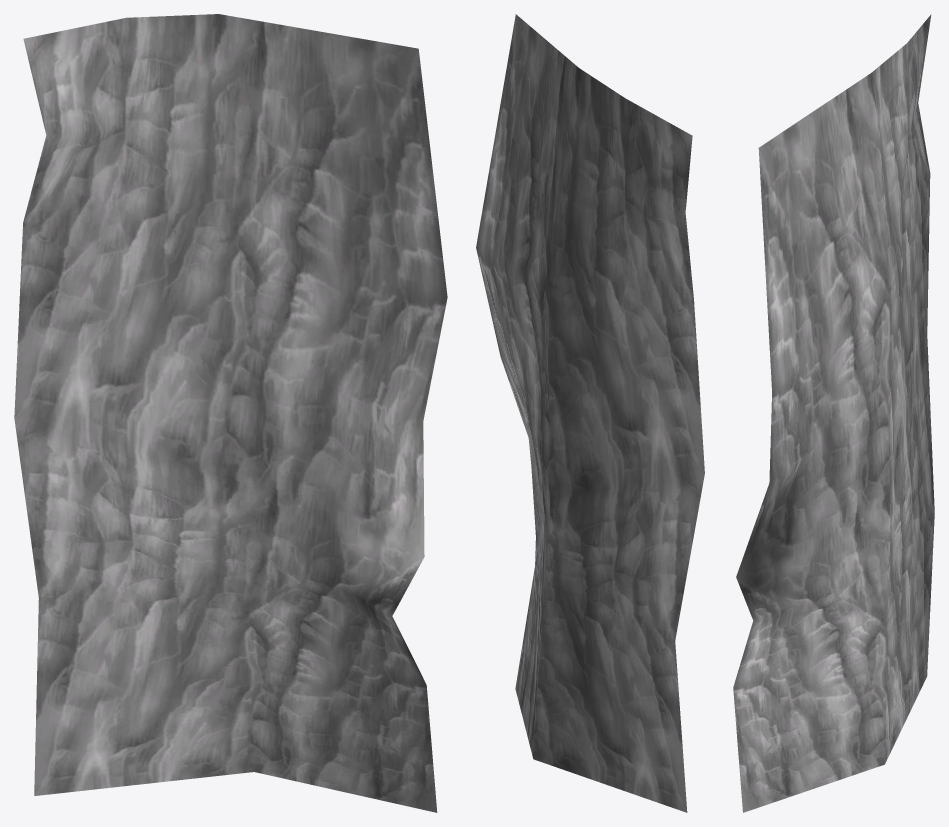
The model's file is SWORDLIGHT20_PS-AREA03_192.fbx.
The picture shows the model from 3 angles, left to right: view 1: azimuth 30°, elevation 25°; view 2: azimuth 150°, elevation 25°; view 3: azimuth 270°, elevation 25°; orthographic projection. The views are drawn at different scales.
Visible parts, largest first — view 1: SWORDLIGHT20_PS-AREA03_192; view 2: SWORDLIGHT20_PS-AREA03_192; view 3: SWORDLIGHT20_PS-AREA03_192.
Boxes of the visible parts, box(x1,y1,x2,y2) form: SWORDLIGHT20_PS-AREA03_192: box(14, 14, 447, 812); SWORDLIGHT20_PS-AREA03_192: box(476, 14, 704, 812); SWORDLIGHT20_PS-AREA03_192: box(733, 14, 934, 812).
Bounding box in the file's own units: 70374 × 152518 × 41057.
1 material, 1 textured.
